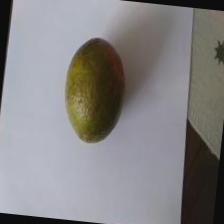Orange Rotten: (52, 28, 140, 154)
